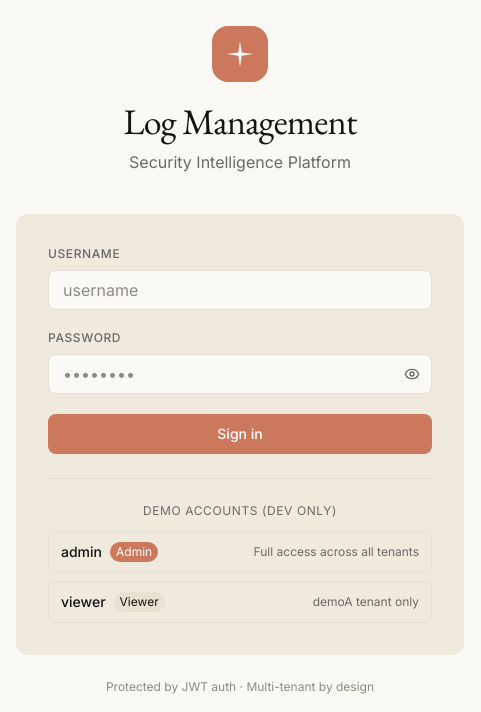
Test: Login Page › shows error on invalid credentials
Type "admin" into the field with placeholder "username".
click(240, 290); type("admin")  # box [48, 270, 432, 310]
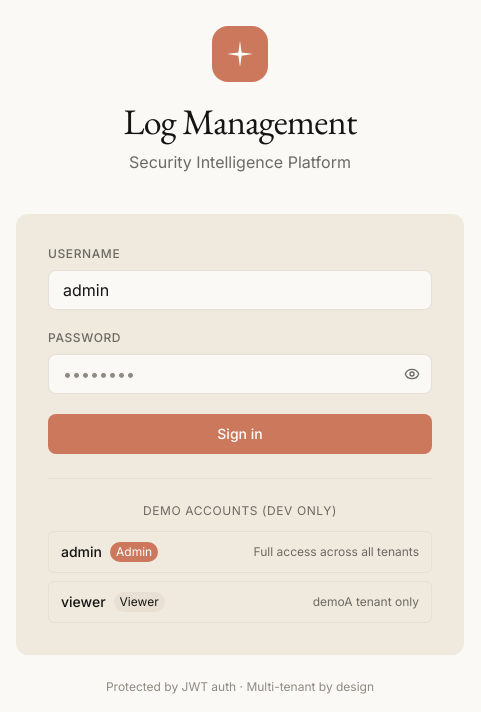
Type "wrong" into the password field with placeholder "••••••••".
click(240, 374); type("wrong")  # box [48, 354, 432, 394]
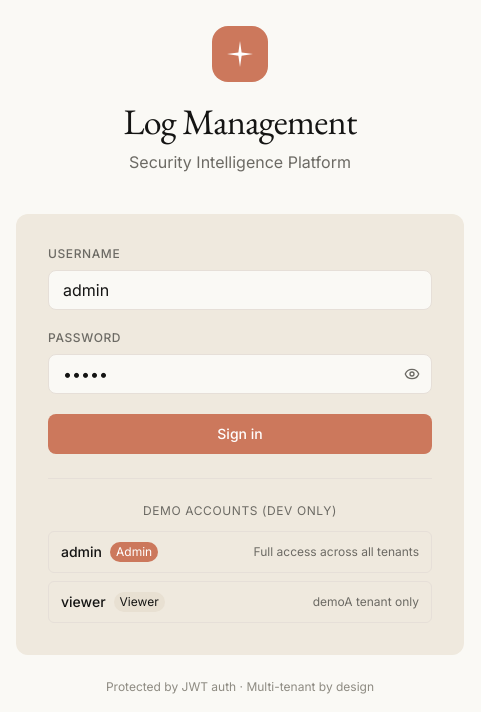
Click the button "Sign in".
click(240, 434)  # box [48, 414, 432, 454]
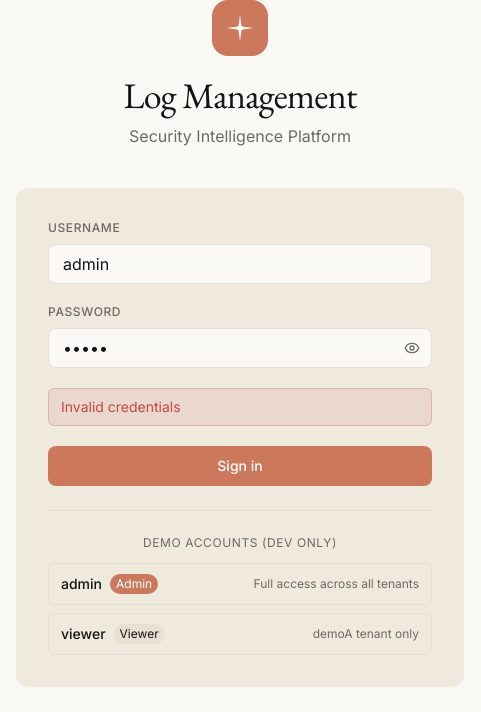
expect the text "Invalid credentials" is shown: met, box [48, 388, 432, 426]
